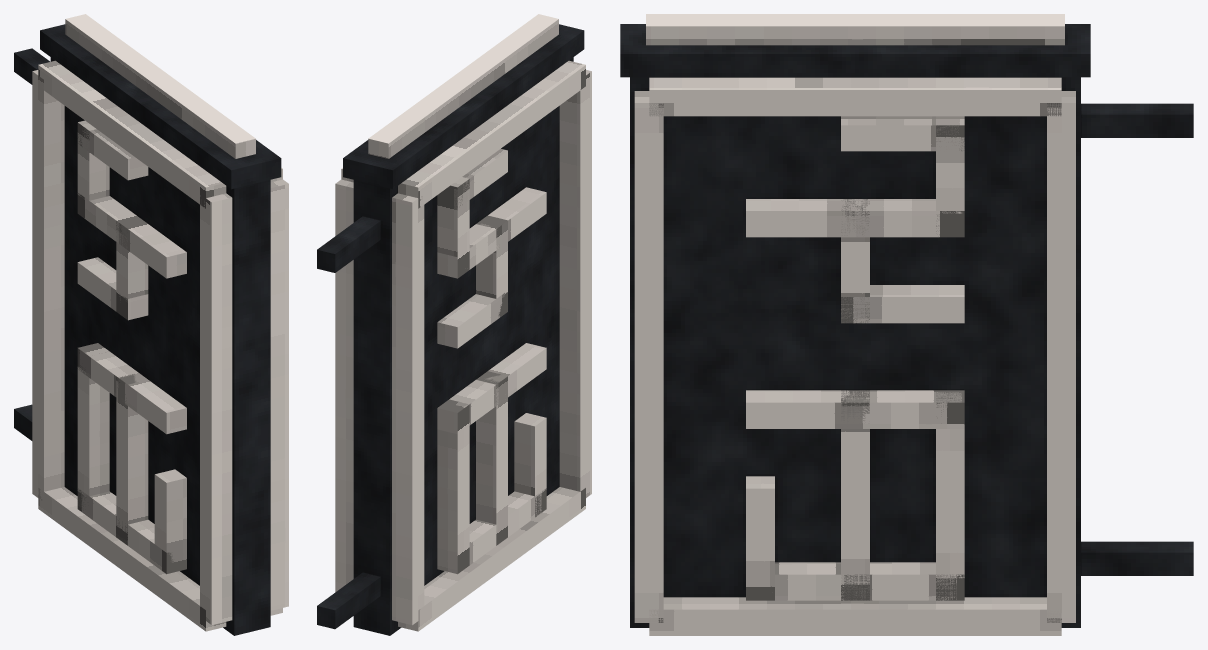
File: city_neon_blade_b.glb
The picture shows the model from 3 angles, left to right: view 1: azimuth 30°, elevation 25°; view 2: azimuth 150°, elevation 25°; view 3: azimuth 270°, elevation 25°; orthographic projection. The views are drawn at different scales.
Parts seen in each view (by area): view 1: city_neon_blade_b.001; view 2: city_neon_blade_b.001; view 3: city_neon_blade_b.001.
Part boxes in pixels (x1=…): city_neon_blade_b.001: x1=14, y1=14, x2=288, y2=635; city_neon_blade_b.001: x1=317, y1=14, x2=591, y2=635; city_neon_blade_b.001: x1=620, y1=14, x2=1193, y2=635.
Size of the model in its own units: 0.34 by 2.05 by 1.78.
Materials: 2 (2 with a texture image).
